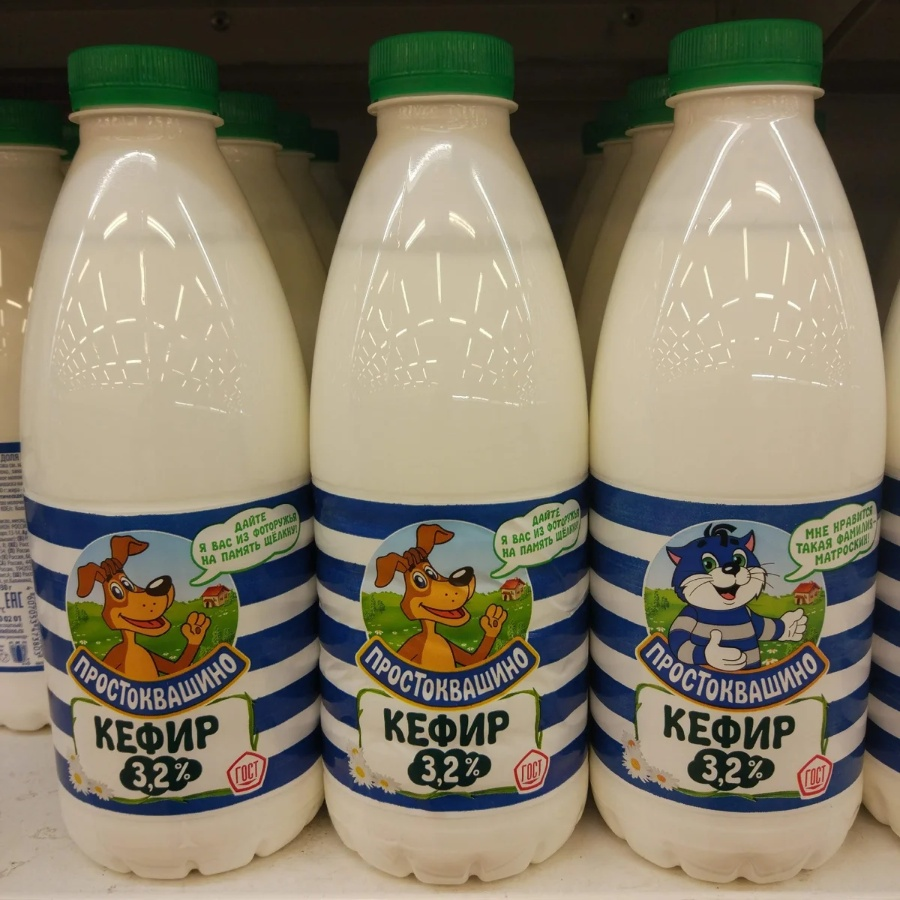milk: (4, 41, 349, 888), (586, 1, 893, 885), (294, 21, 605, 888)
